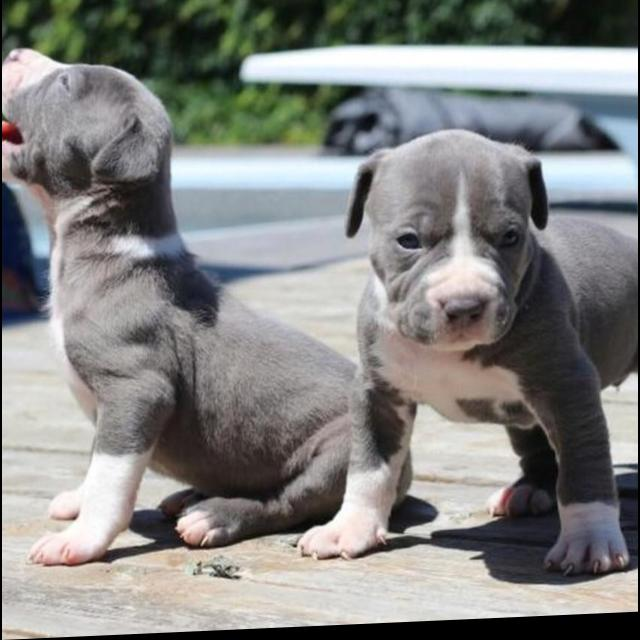am_pit_bull_terrier: (4, 32, 413, 571), (296, 126, 640, 594)
